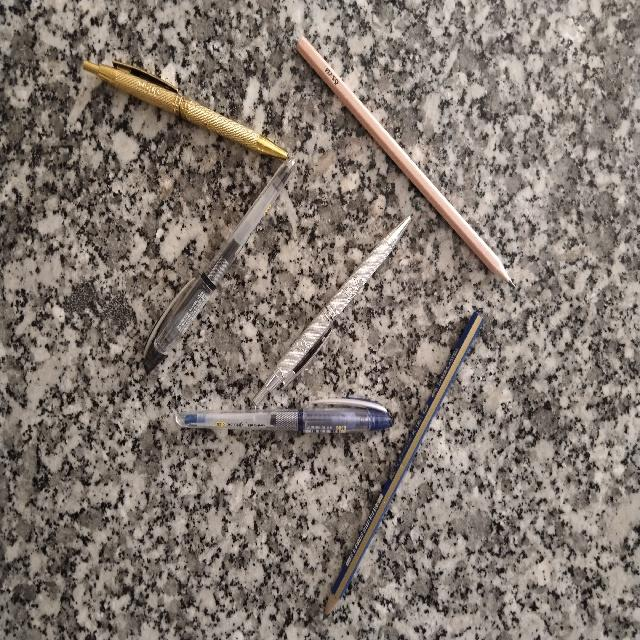pen: (143, 160, 293, 372), (176, 398, 391, 433)
pencil: (297, 37, 512, 283), (325, 312, 483, 614)
signature pen: (253, 216, 410, 405), (83, 61, 287, 158)
